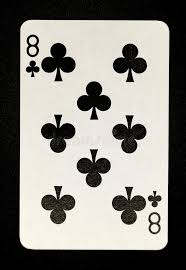eigth of clubs: (19, 17, 168, 250)
